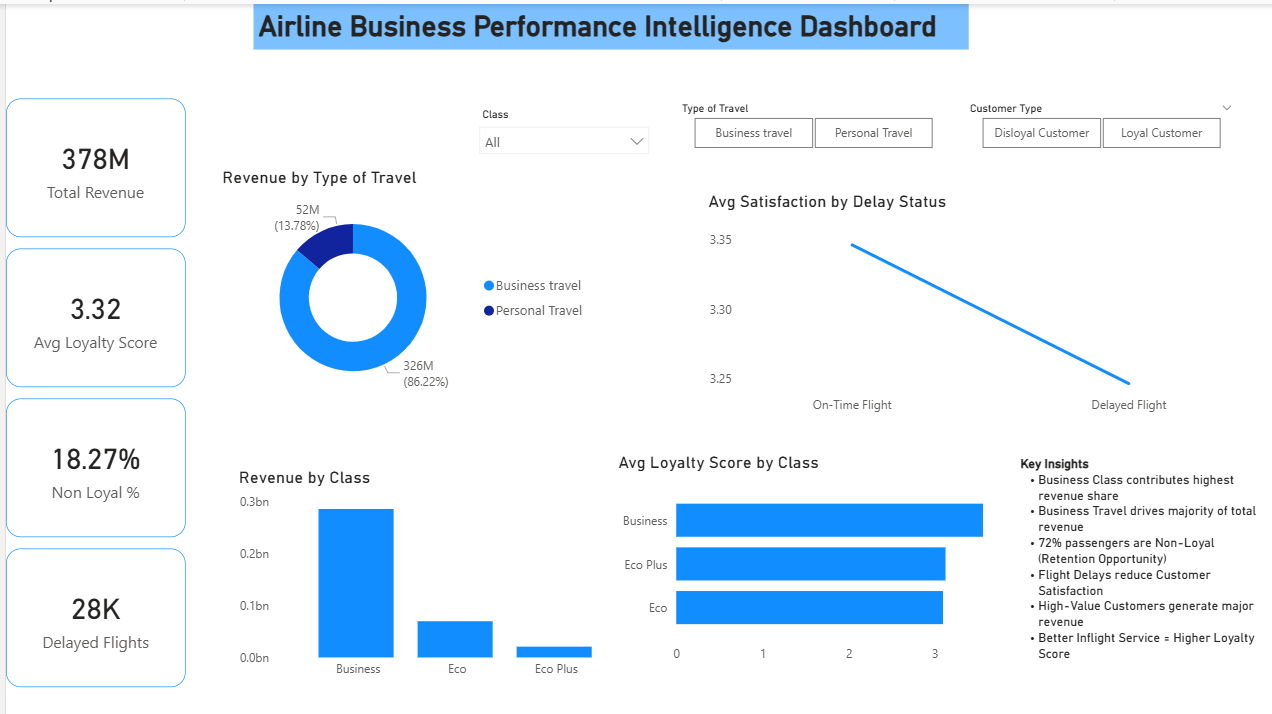

What the dashboard file says about the page in this screenshot:
{"tool":"powerbi","page":{"name":"Page 1","canvas":[1280,720],"ordinal":0},"visuals":[{"type":"card","fields":{"Values":["airline_data.Total Revenue"]},"box":[0,95.7,181.4,140],"z":0},{"type":"clusteredColumnChart","title":"Revenue by Class","fields":{"Category":["airline_data.Class"],"Y":["airline_data.Total Revenue"]},"box":[230,468.6,410,221.4],"z":4},{"type":"donutChart","title":"Revenue by Type of Travel","fields":{"Category":["airline_data.Type of Travel"],"Y":["airline_data.Total Revenue"]},"box":[212.9,165.7,382.9,241.4],"z":5},{"type":"barChart","fields":{"Category":["airline_data.Class"],"Y":["airline_data.Avg Loyalty Score"]},"box":[612.9,452.9,420,221.4],"z":6},{"type":"lineChart","fields":{"Category":["airline_data.Delay Status"],"Y":["airline_data.Avg Satisfaction"]},"box":[704.3,190,545.7,232.9],"z":7},{"type":"card","fields":{"Values":["airline_data.Avg Loyalty Score"]},"box":[0,247.1,181.4,140],"z":8},{"type":"card","fields":{"Values":["airline_data.Non Loyal %"]},"box":[0,398.6,181.4,140],"z":9},{"type":"card","fields":{"Values":["airline_data.Delayed Flights"]},"box":[0,550,181.4,140],"z":10},{"type":"slicer","fields":{"Values":["airline_data.Class"]},"box":[467.1,100,191.4,52.9],"z":11},{"type":"slicer","fields":{"Values":["airline_data.Type of Travel"]},"box":[670,94.3,290,58.6],"z":12},{"type":"slicer","fields":{"Values":["airline_data.Customer Type"]},"box":[960,94.3,290,58.6],"z":13},{"type":"textbox","box":[1018.6,448.6,248.6,241.4],"z":14},{"type":"textbox","box":[250,0,722,46],"z":15}]}

Visuals, with their boxes in screenshot pixels (x1, y1, x2, y2), scaled from the page's 1280x720 canvas onto the 1272x714 screenshot:
card - airline_data.Total Revenue: crop(0, 95, 180, 234)
"Revenue by Class" clusteredColumnChart: crop(229, 465, 636, 684)
"Revenue by Type of Travel" donutChart: crop(212, 164, 592, 404)
barChart - airline_data.Class x airline_data.Avg Loyalty Score: crop(609, 449, 1026, 669)
lineChart - airline_data.Delay Status x airline_data.Avg Satisfaction: crop(700, 188, 1242, 419)
card - airline_data.Avg Loyalty Score: crop(0, 245, 180, 384)
card - airline_data.Non Loyal %: crop(0, 395, 180, 534)
card - airline_data.Delayed Flights: crop(0, 545, 180, 684)
slicer - airline_data.Class: crop(464, 99, 654, 152)
slicer - airline_data.Type of Travel: crop(666, 94, 954, 152)
slicer - airline_data.Customer Type: crop(954, 94, 1242, 152)
textbox: crop(1012, 445, 1259, 684)
textbox: crop(248, 0, 966, 46)
